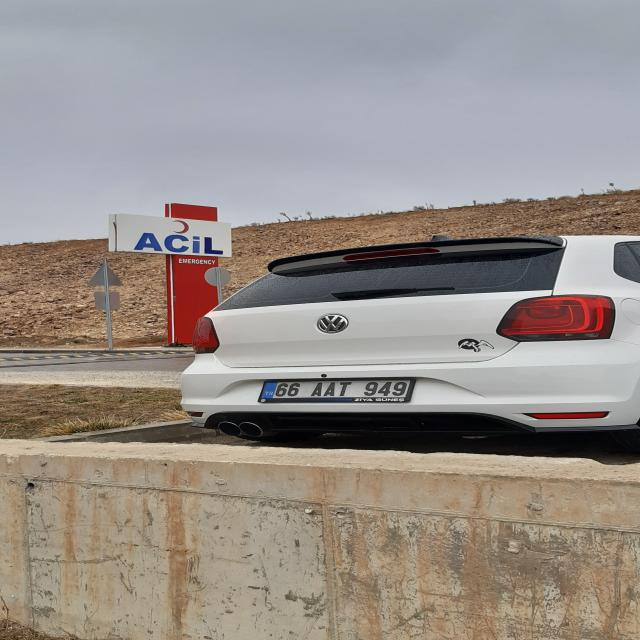plate: (258, 379, 412, 398)
